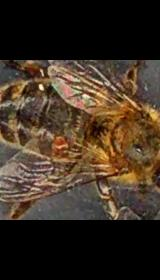varroa_mite: (50, 130, 68, 160)
